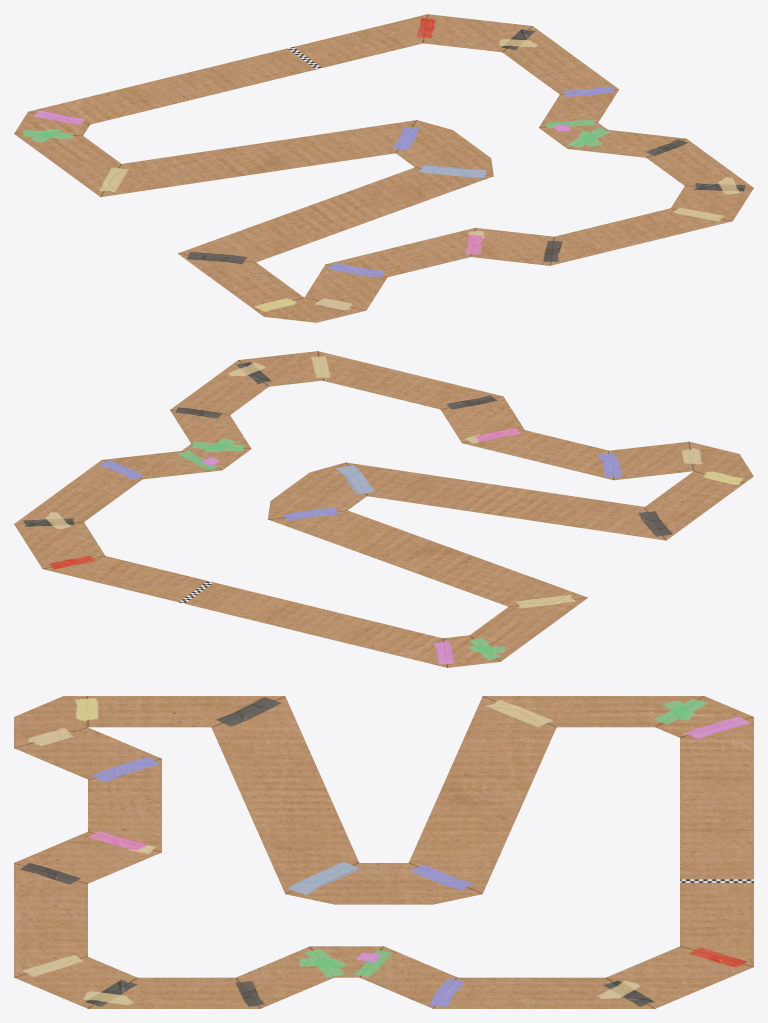
File: Course.fbx
The picture shows the model from 3 angles, top to bottom: view 1: azimuth 30°, elevation 25°; view 2: azimuth 150°, elevation 25°; view 3: azimuth 270°, elevation 25°; orthographic projection. The views are drawn at different scales.
Parts seen in each view (by area): view 1: pPlane5; view 2: pPlane5; view 3: pPlane5.
Part boxes in pixels (x1=…): pPlane5: x1=14, y1=14, x2=753, y2=322; pPlane5: x1=14, y1=351, x2=753, y2=667; pPlane5: x1=14, y1=696, x2=753, y2=1008.
Size of the model in its own units: 8000 by 0 by 8000.
